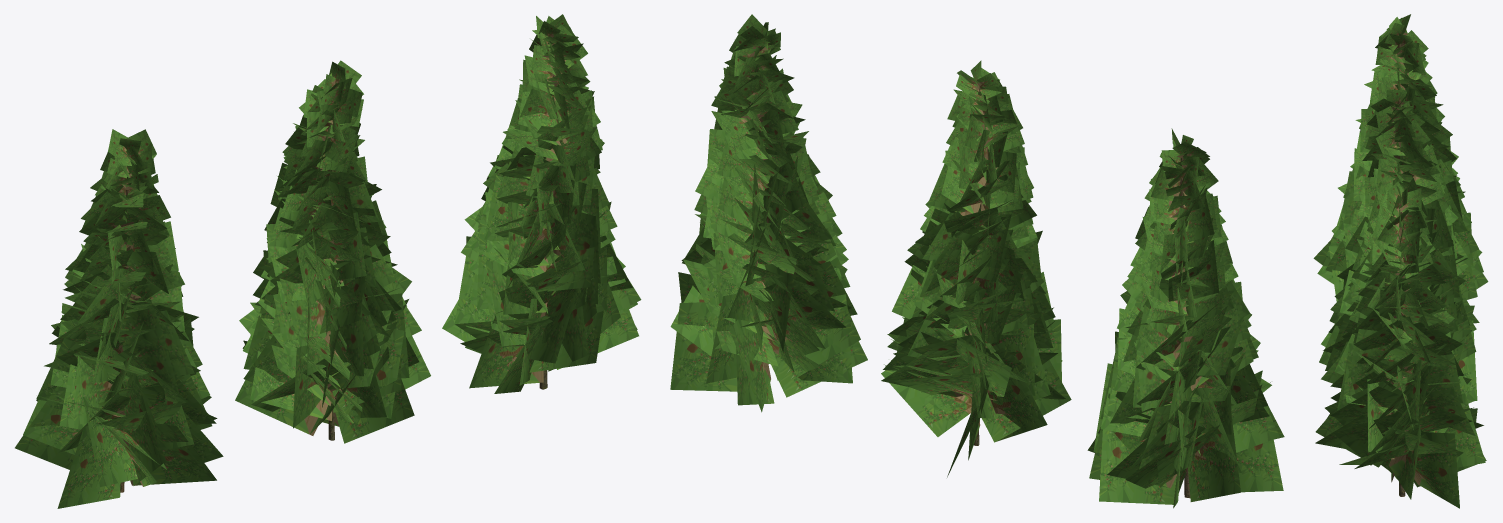
The model's file is oak_tree.glb.
3 renders of one model, left to right at view 1: azimuth 30°, elevation 25°; view 2: azimuth 150°, elevation 25°; view 3: azimuth 270°, elevation 25°, orthographic. The views are drawn at different scales.
Visible parts, largest first — view 1: Tree-1_1, Tree_0, Tree-2_2; view 2: Tree-2_2, Tree_0, Tree-1_1; view 3: Tree-2_2, Tree-1_1, Tree_0.
Boxes of the visible parts, box(x1,y1,x2,y2) form: Tree-1_1: box(235, 60, 430, 443); Tree_0: box(15, 129, 223, 508); Tree-2_2: box(442, 14, 641, 393); Tree-2_2: box(670, 14, 867, 412); Tree_0: box(1087, 128, 1284, 508); Tree-1_1: box(881, 60, 1071, 477); Tree-2_2: box(1315, 181, 1486, 508); Tree-1_1: box(1319, 89, 1477, 400); Tree_0: box(1313, 14, 1488, 323).
Bounding box in the file's own units: 2.74 × 1.72 × 0.8422.
2 materials, 2 textured.
